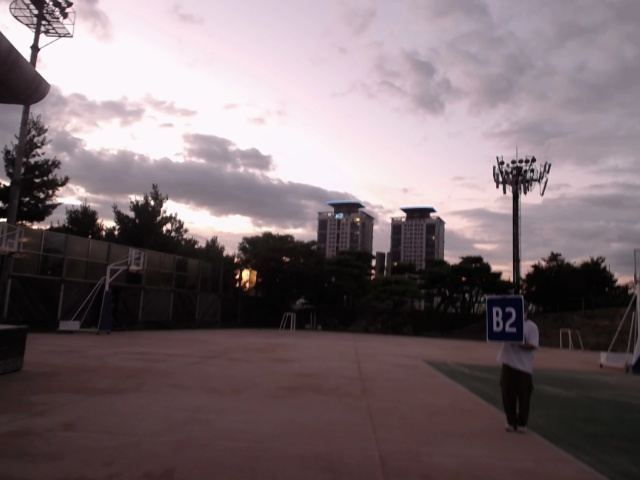delivery_b2: (483, 295, 525, 343)
